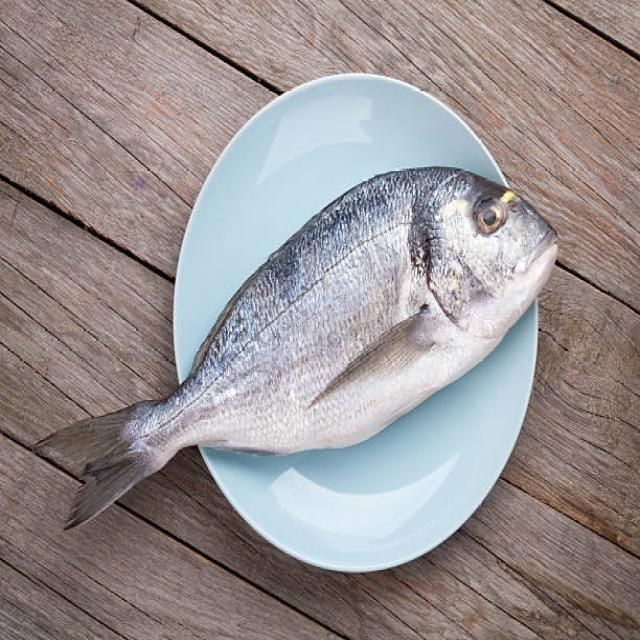Healthy Fish: (38, 169, 586, 537)
